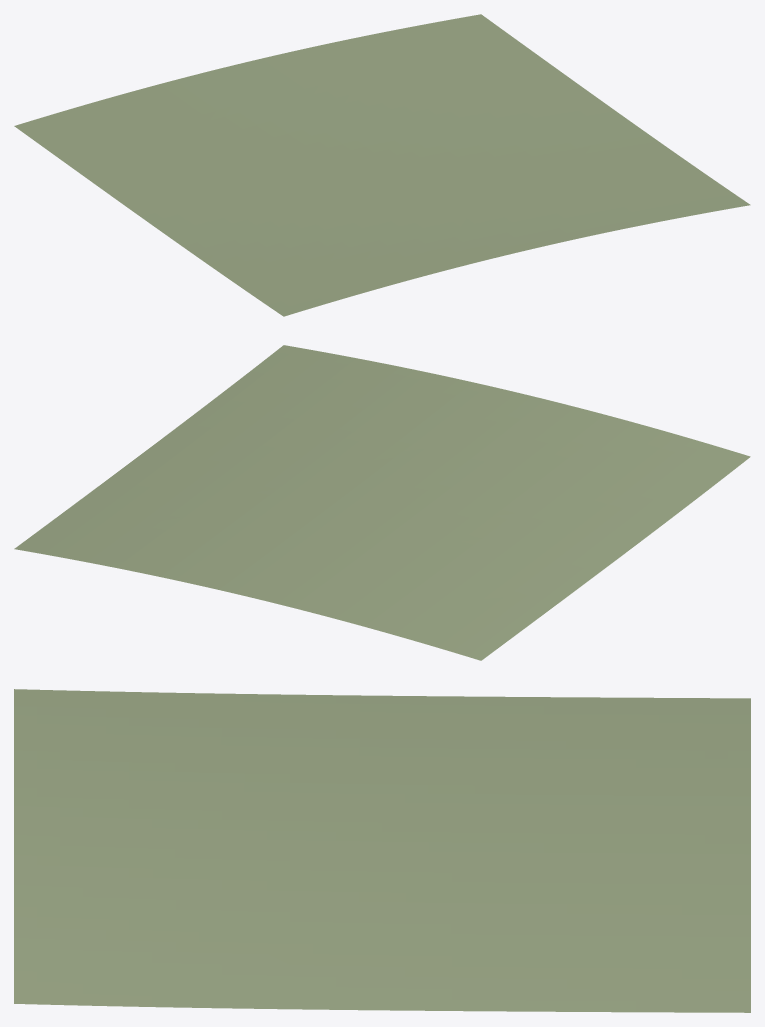
The model's file is valley-15-11.glb.
3 views of the same model, one above another, from view 1: azimuth 30°, elevation 25°; view 2: azimuth 150°, elevation 25°; view 3: azimuth 270°, elevation 25° (orthographic). The views are drawn at different scales.
Parts seen in each view (by area): view 1: valley-15-11; view 2: valley-15-11; view 3: valley-15-11.
Part boxes in pixels (x1=…): valley-15-11: x1=14, y1=14, x2=750, y2=316; valley-15-11: x1=14, y1=345, x2=750, y2=660; valley-15-11: x1=14, y1=689, x2=750, y2=1012.
Size of the model in its own units: 256 by 8.45 by 256.
